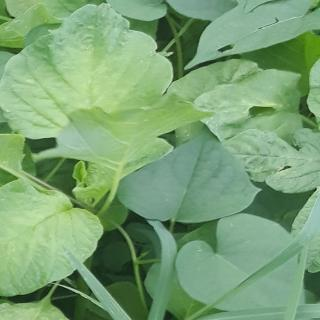virus_keriting: (203, 124, 320, 198)
